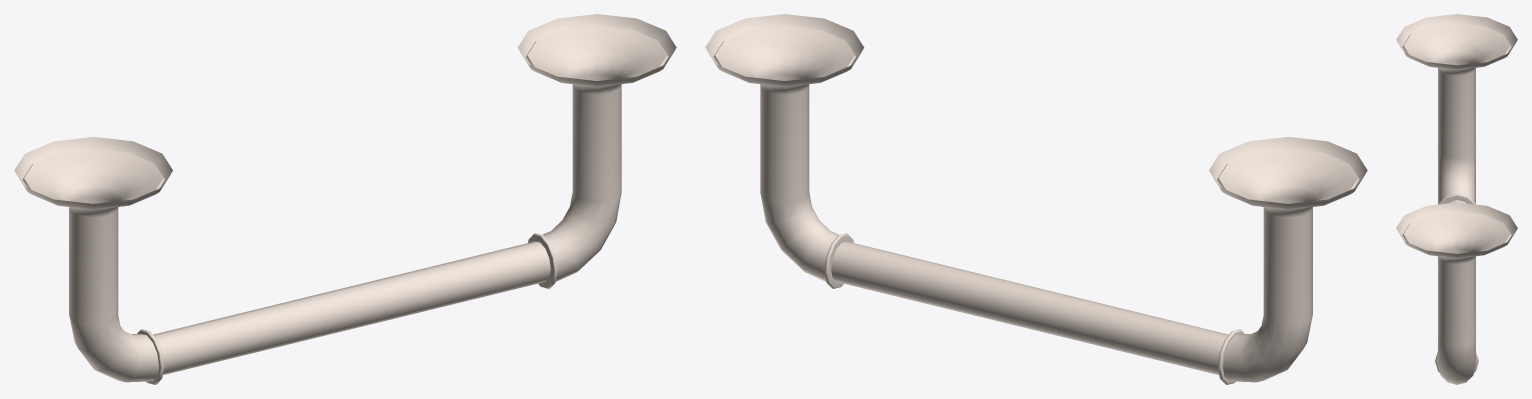
The model's file is ToiletPaperHanger_29_ToiletPaperHanger_29_0.obj.
The picture shows the model from 3 angles, left to right: view 1: azimuth 30°, elevation 25°; view 2: azimuth 150°, elevation 25°; view 3: azimuth 270°, elevation 25°; orthographic projection. The views are drawn at different scales.
Parts seen in each view (by area): view 1: ToiletPaperHanger_29; view 2: ToiletPaperHanger_29; view 3: ToiletPaperHanger_29.
Part boxes in pixels (box(x1,y1,x2,y2)): ToiletPaperHanger_29: box(14, 14, 676, 384); ToiletPaperHanger_29: box(705, 14, 1367, 384); ToiletPaperHanger_29: box(1396, 14, 1517, 384).
Size of the model in its own units: 0.2498 by 0.0842 by 0.0536.
